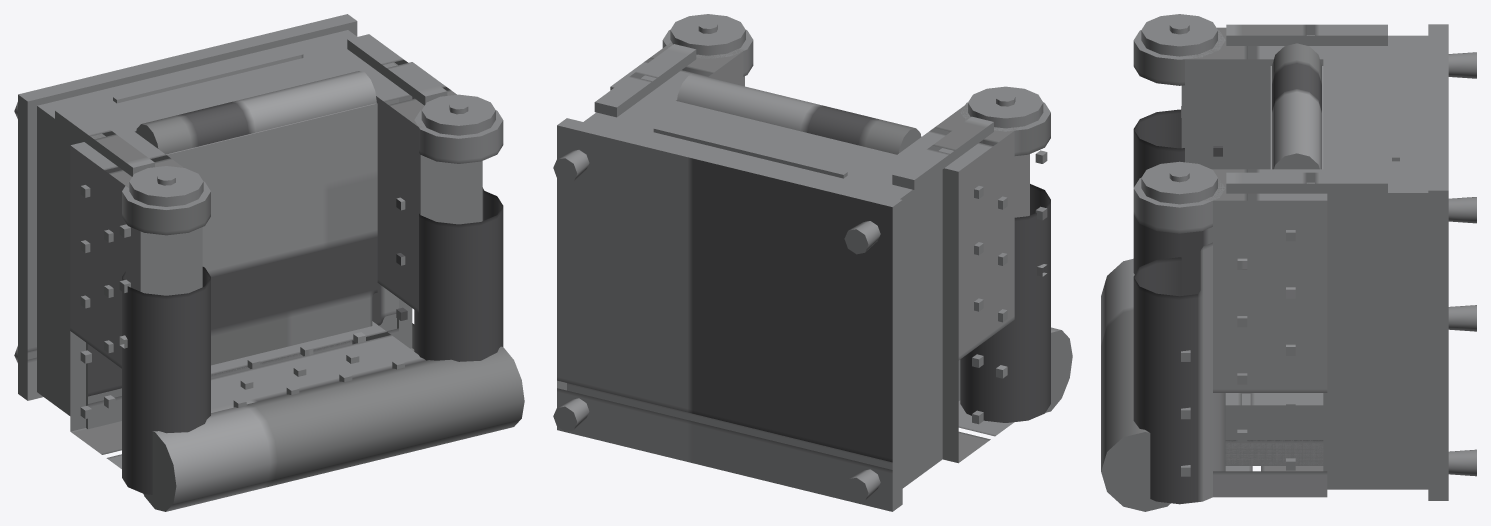
3 renders of one model, left to right at view 1: azimuth 30°, elevation 25°; view 2: azimuth 150°, elevation 25°; view 3: azimuth 270°, elevation 25°, orthographic. The views are drawn at different scales.
Bounding box in the file's own units: 1.11 × 0.8886 × 0.9293.
